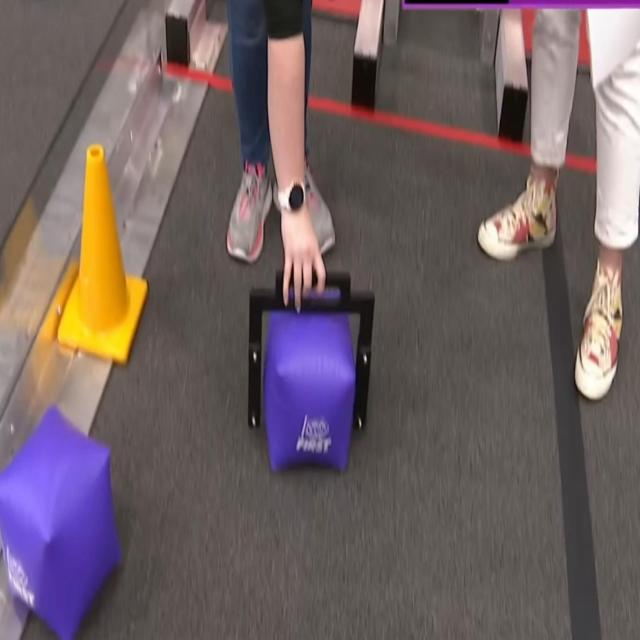frc_cone: (56, 145, 148, 371)
frc_cube: (0, 403, 123, 640), (262, 296, 356, 476)
